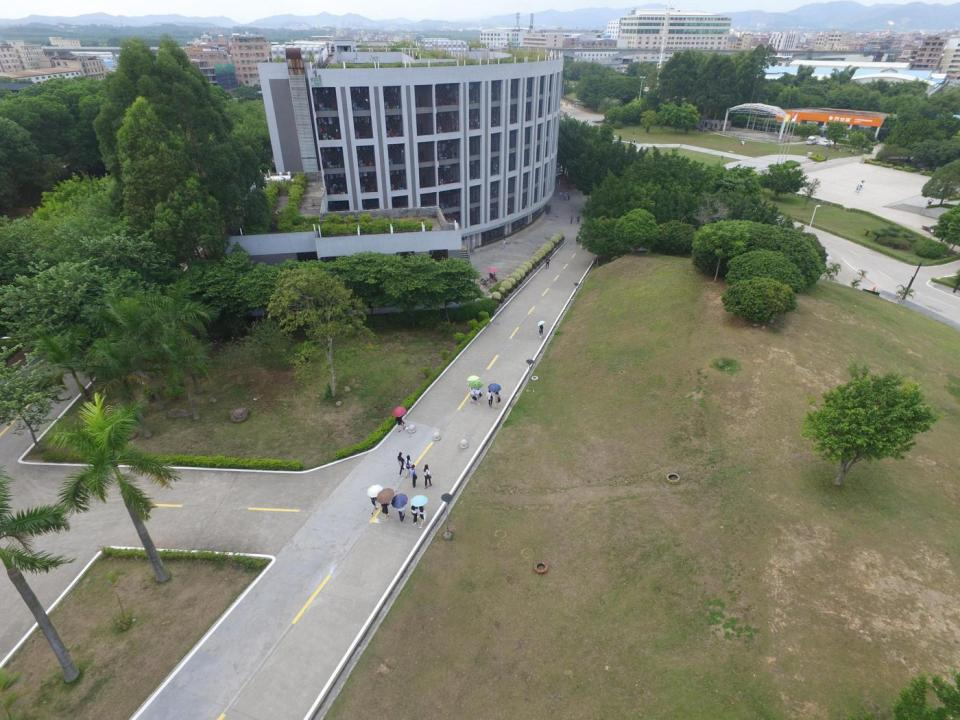car: (821, 140, 832, 146)
van: (805, 134, 821, 146)
